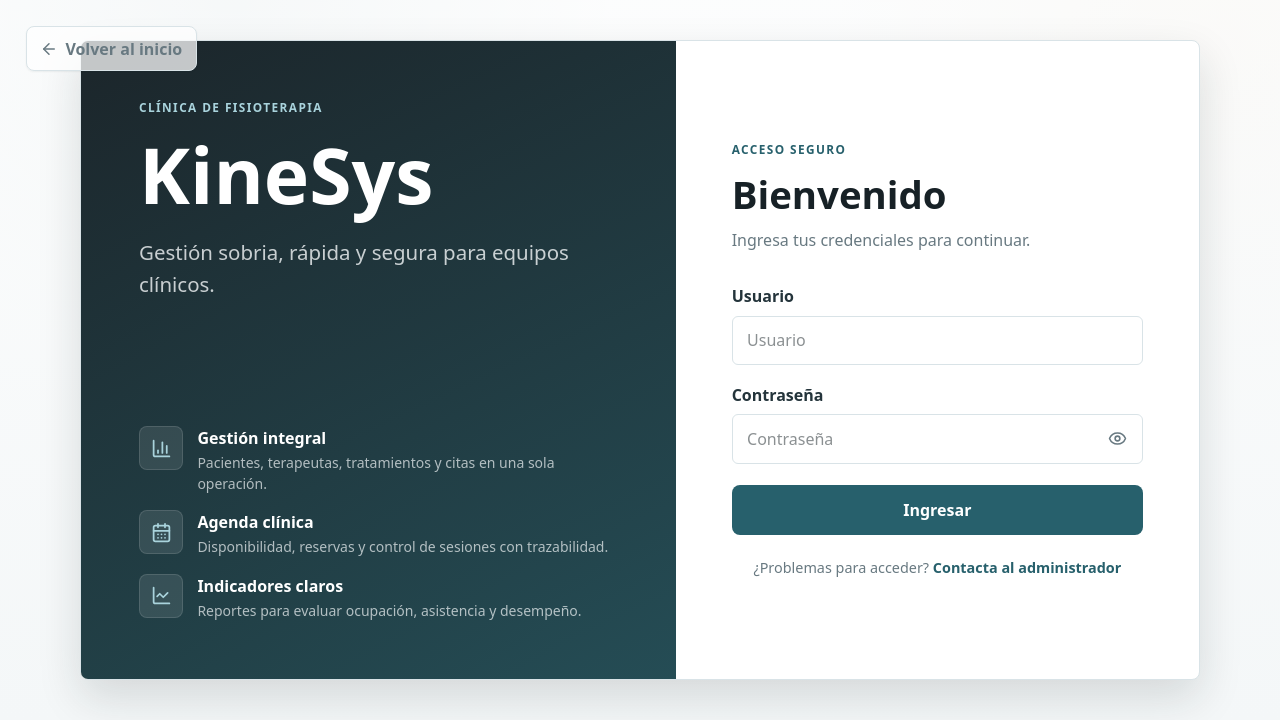
Test: CI-P05 | Credenciales inválidas - respuesta 401 (CI5) › muestra mensaje de error al recibir credenciales incorrectas
The image size is (1280, 720).
Type "user_errado" into the field with placeholder "Usuario" at (937, 341), box [732,316,1143,365]
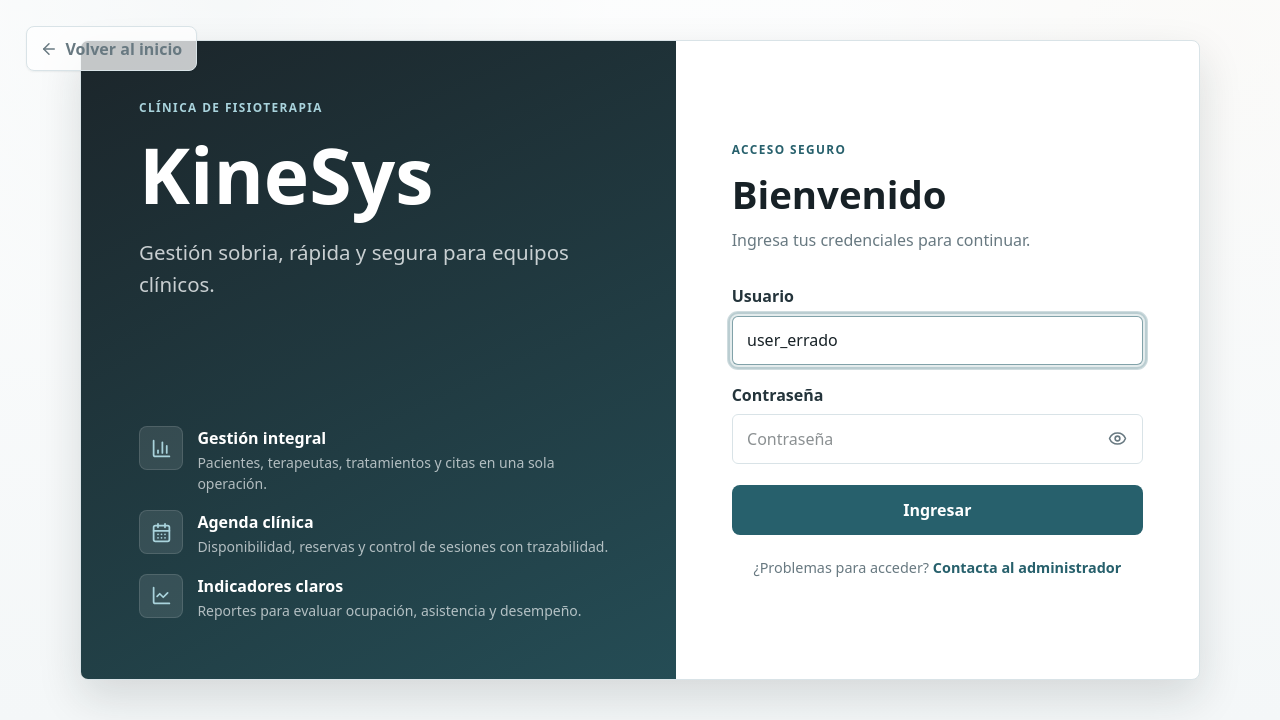
Type "clave_errada" into the password field with placeholder "Contraseña" at (937, 439), box [732,414,1143,464]
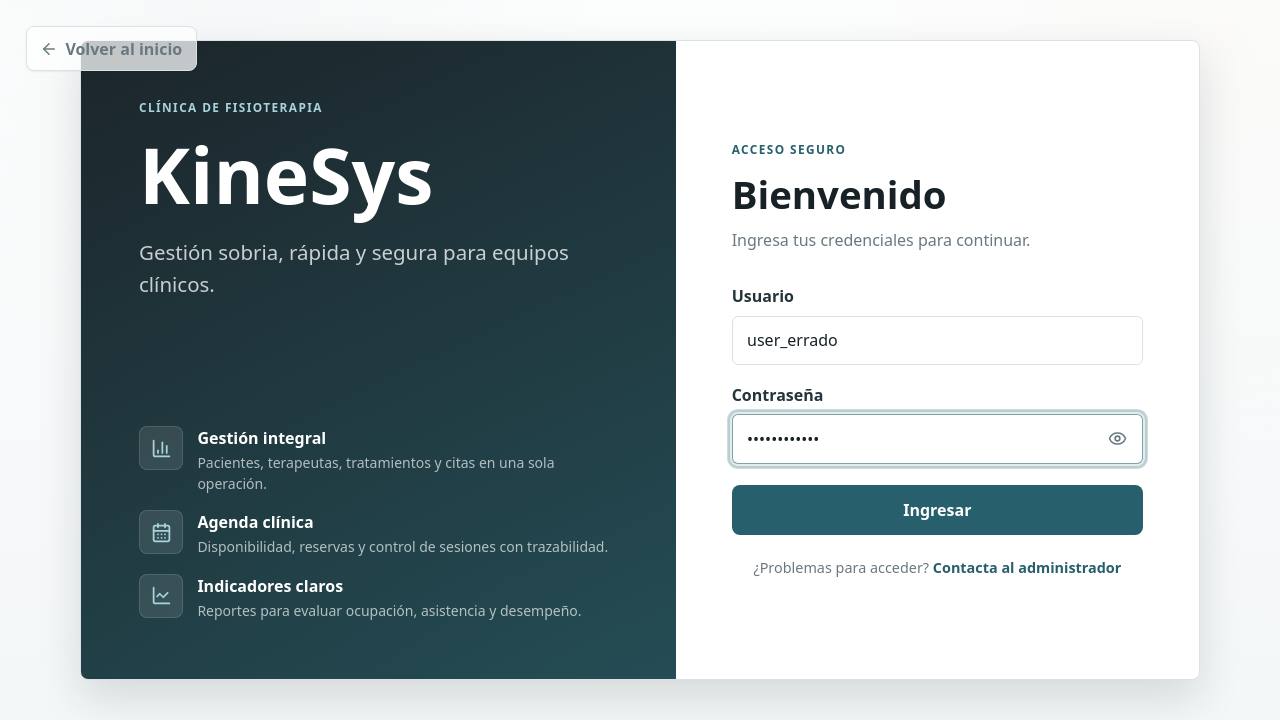
Submit the form "Usuario Contraseña Ingresar", box [732,284,1143,535]
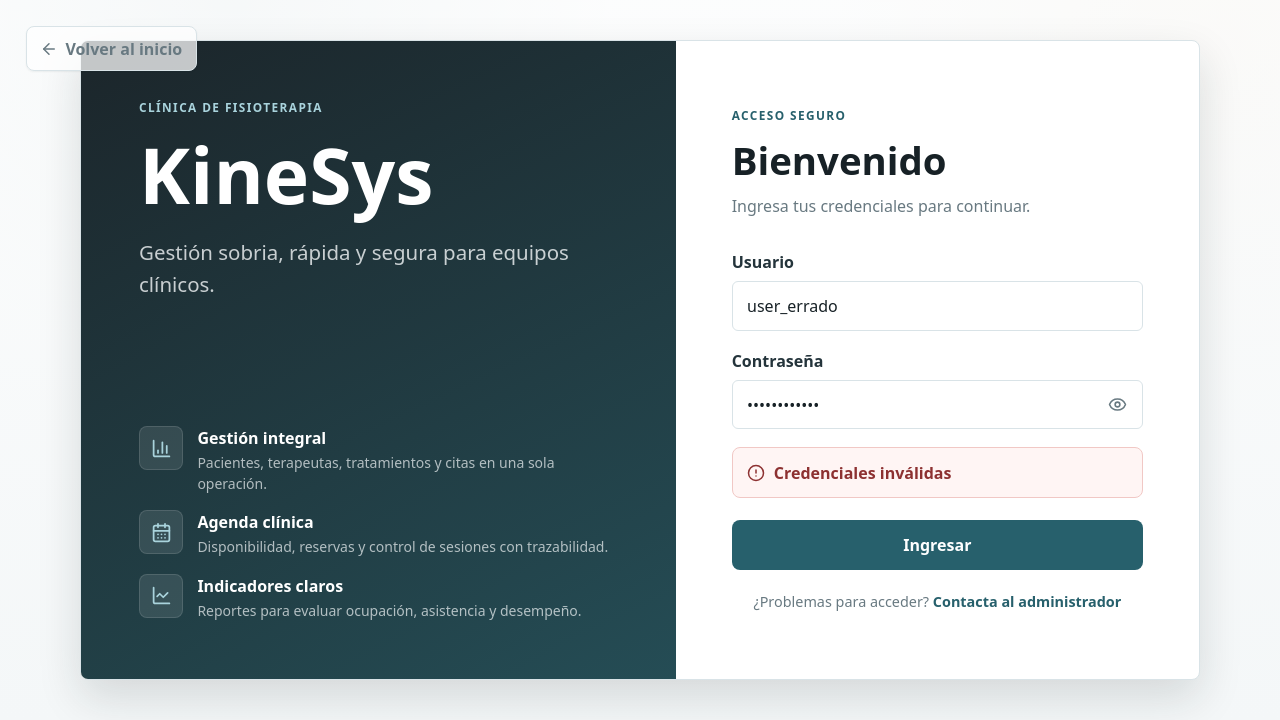
Check: the text "Credenciales inválidas" is shown, box [774,460,952,484]
